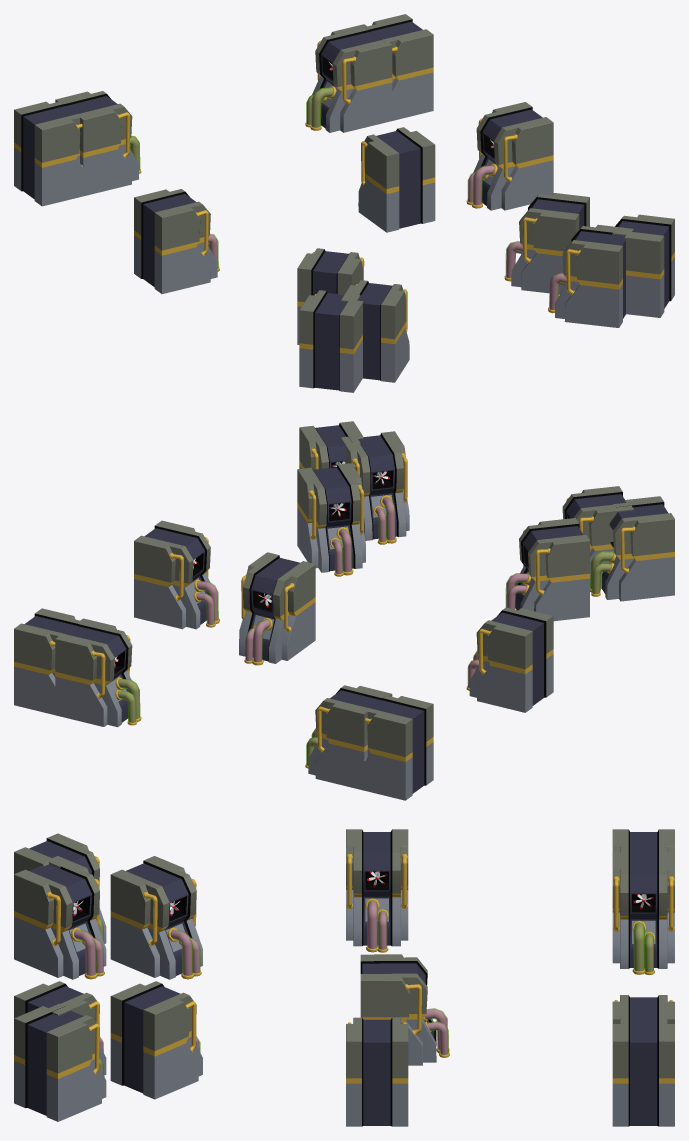
File: Wall_inmiddle1_.fbx
3 renders of one model, top to bottom at view 1: azimuth 30°, elevation 25°; view 2: azimuth 150°, elevation 25°; view 3: azimuth 270°, elevation 25°, orthographic. The views are drawn at different scales.
Visible parts, largest first — view 1: Base (×13), Pipe1 (×2); view 2: Base (×13); view 3: Base (×13), Pipe1 (×5), Pipe2.
Boxes of the visible parts, left/top/right/bottom form: Base (×13): left=14, top=14, right=674, bottom=392; Pipe1 (×2): left=310, top=86, right=497, bottom=208; Base (×13): left=14, top=421, right=674, bottom=800; Base (×13): left=14, top=829, right=674, bottom=1126; Pipe1 (×5): left=71, top=898, right=646, bottom=979; Pipe2: left=425, top=1021, right=449, bottom=1057.
Size of the model in its own units: 385 by 73.12 by 507.
